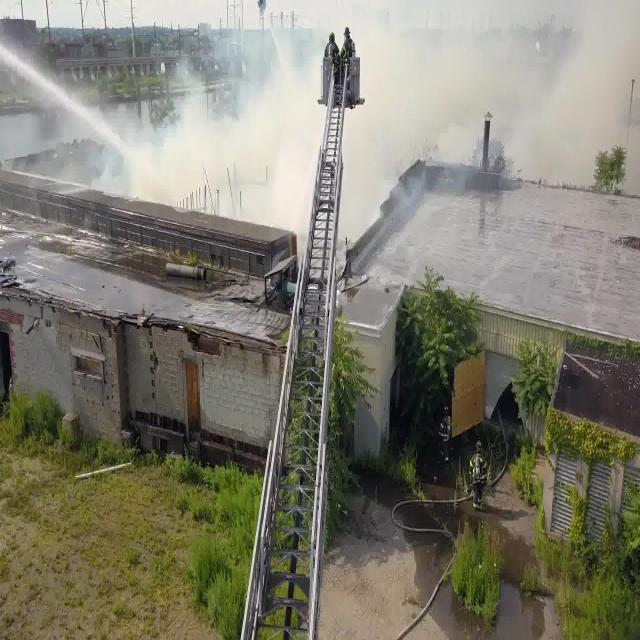smoke: (382, 21, 620, 146), (173, 99, 303, 206)
